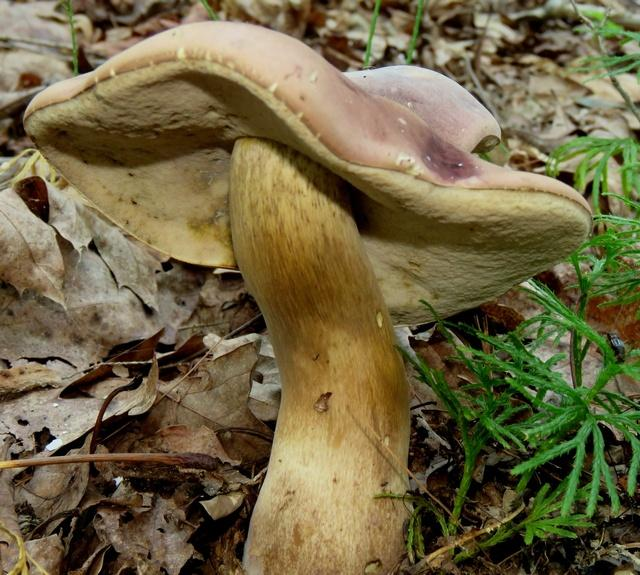Non-edible Mushroom: (20, 19, 594, 573)
